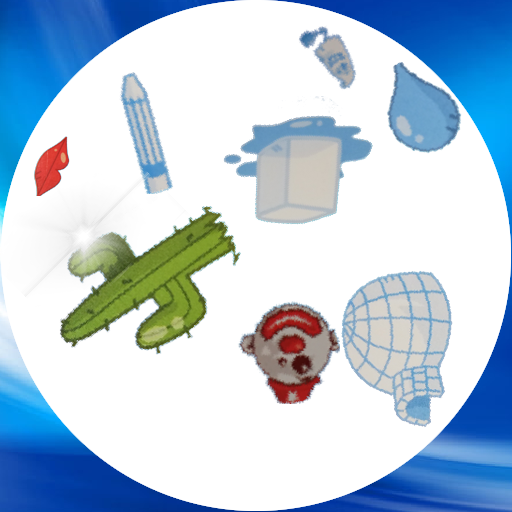cactus_icon: (45, 178, 257, 390)
clown_icon: (237, 301, 340, 404)
cube_icon: (219, 96, 381, 258)
ghost_icon: (294, 20, 368, 94)
igloo_icon: (325, 269, 488, 432)
lips_icon: (18, 135, 79, 196)
pen_icon: (84, 72, 206, 194)
raindrop_icon: (372, 59, 469, 156)
